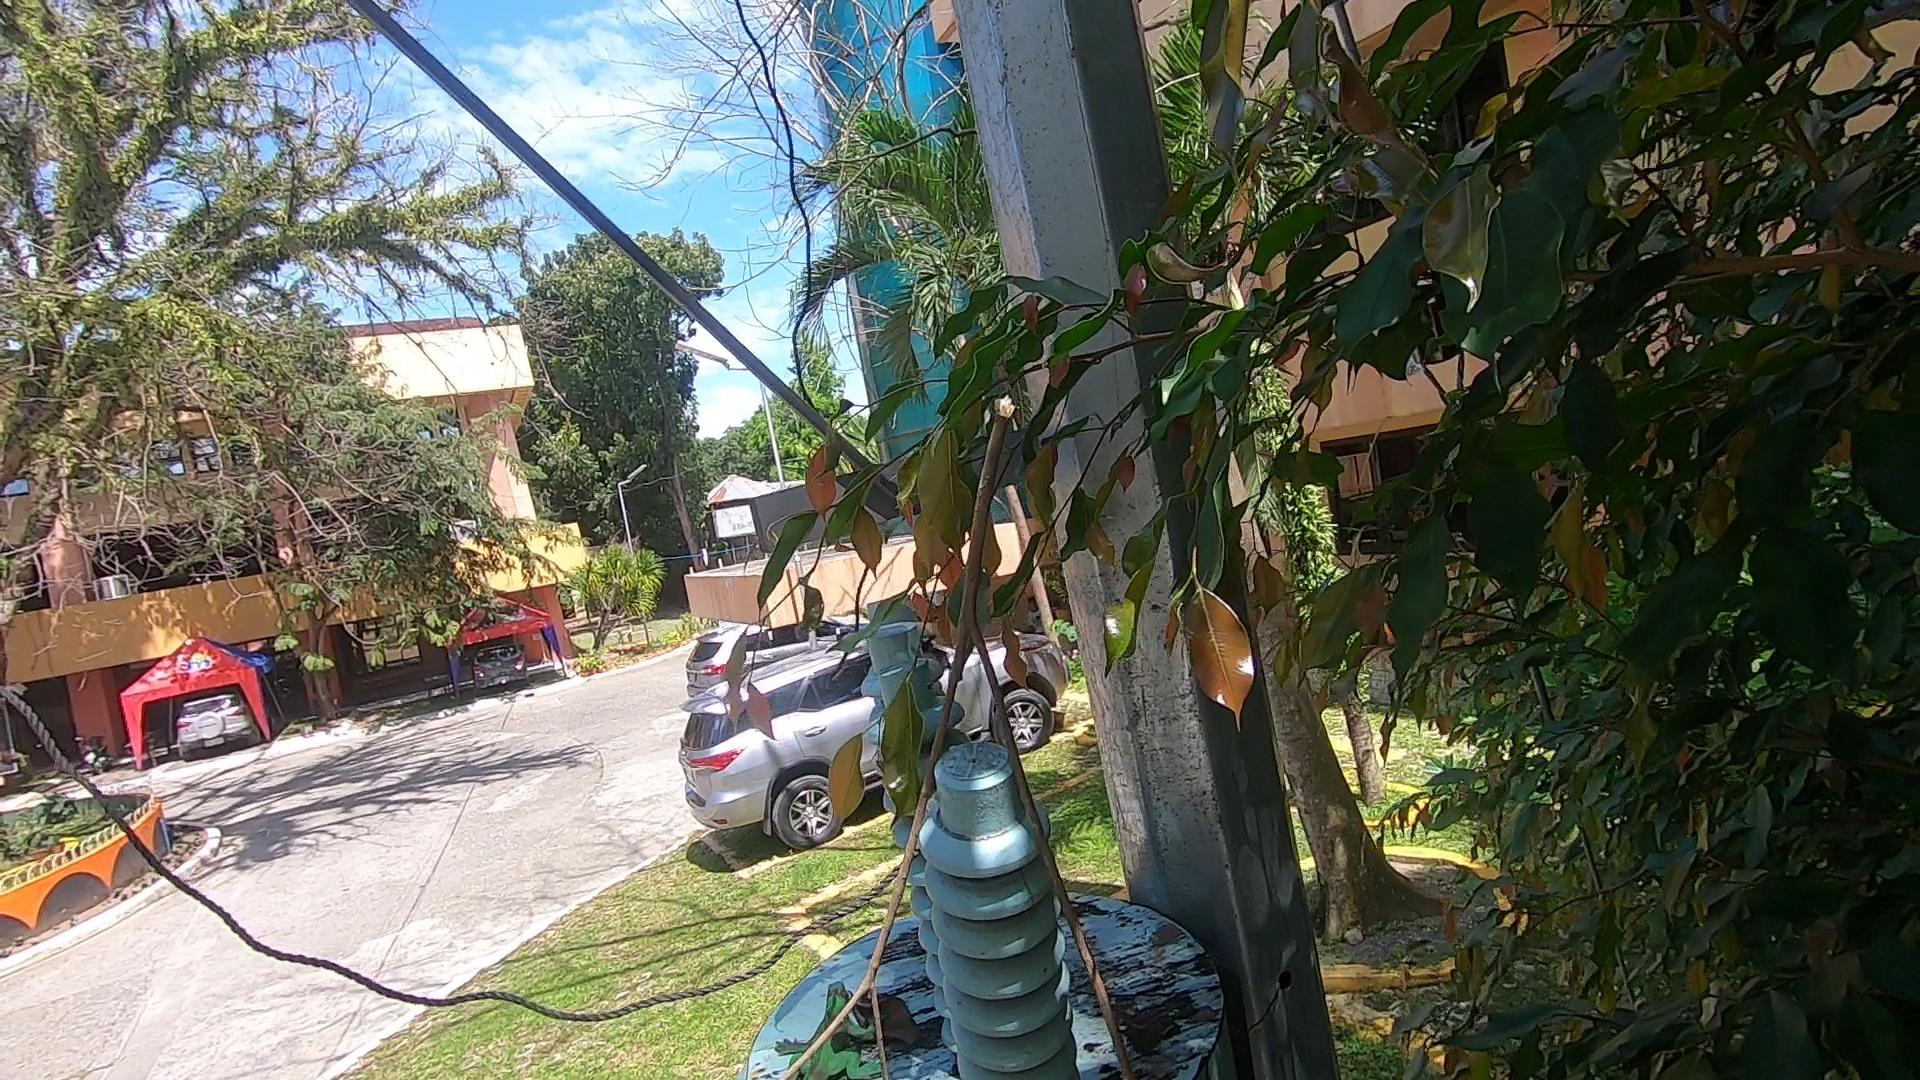leaf: (847, 982, 928, 1051)
tree branch: (742, 419, 1188, 1080)
